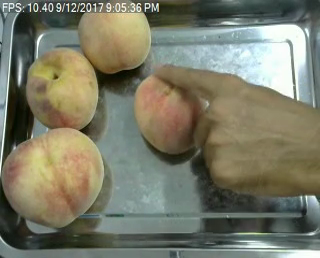Peach: (0, 126, 105, 229), (24, 46, 99, 130), (136, 69, 209, 154), (77, 0, 152, 72)
